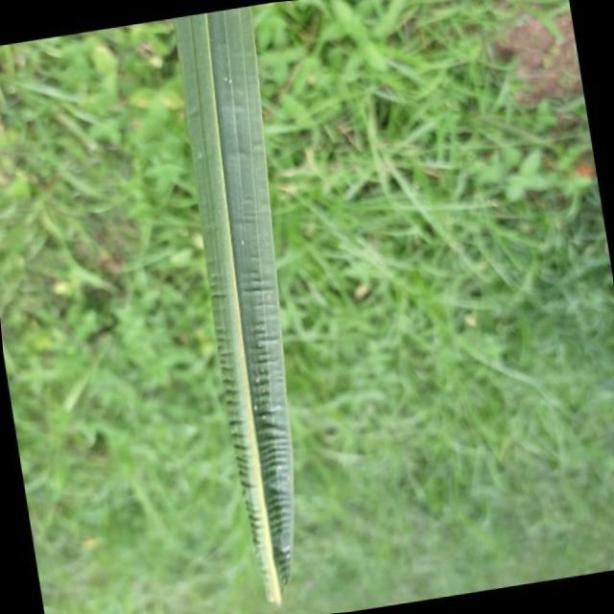Boron: (176, 8, 296, 604)
